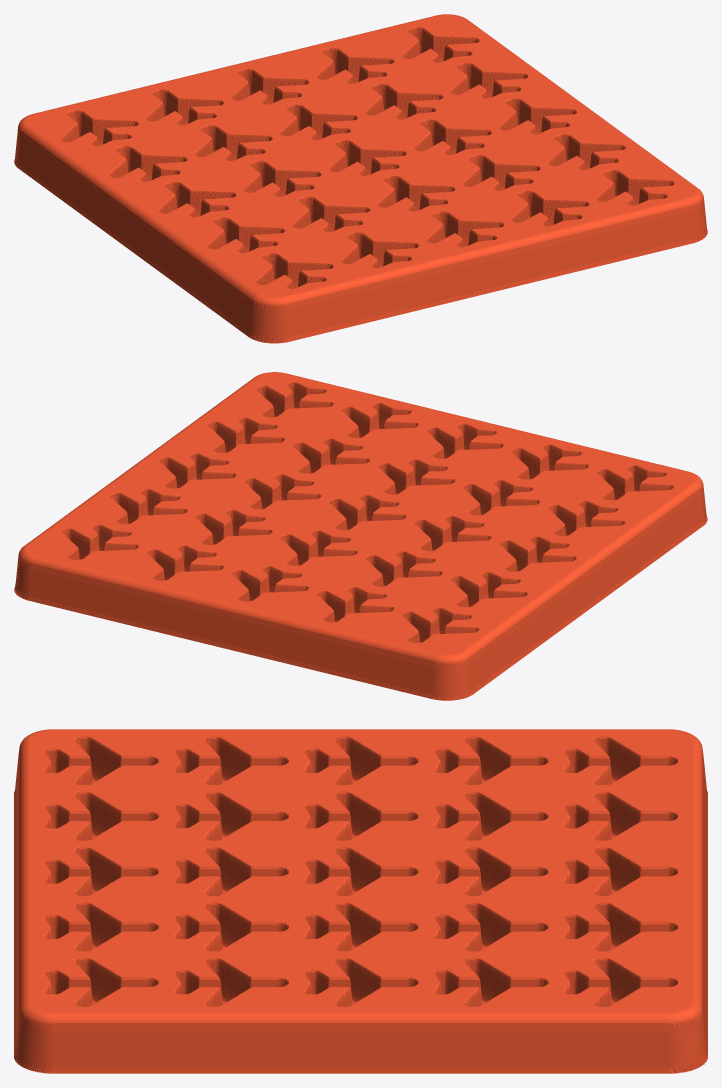
File: mold.glb
3 renders of one model, top to bottom at view 1: azimuth 30°, elevation 25°; view 2: azimuth 150°, elevation 25°; view 3: azimuth 270°, elevation 25°, orthographic. The views are drawn at different scales.
Parts seen in each view (by area): view 1: geometry_0; view 2: geometry_0; view 3: geometry_0.
Part boxes in pixels (bbox=[...]): geometry_0: bbox=[14, 14, 707, 343]; geometry_0: bbox=[14, 372, 707, 700]; geometry_0: bbox=[14, 729, 707, 1073].
Size of the model in its own units: 0.1584 by 0.0136 by 0.1571.
